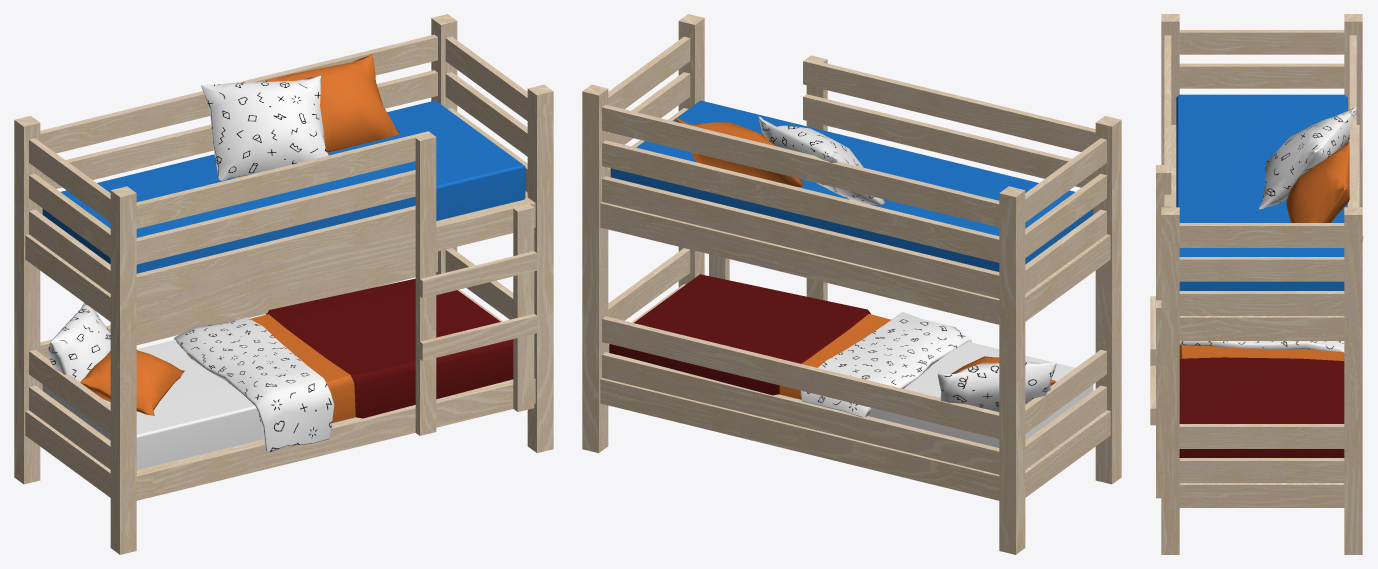
The model's file is bed_010.fbx.
The picture shows the model from 3 angles, left to right: view 1: azimuth 30°, elevation 25°; view 2: azimuth 150°, elevation 25°; view 3: azimuth 270°, elevation 25°; orthographic projection. The views are drawn at different scales.
Parts seen in each view (by area): view 1: bed_010; view 2: bed_010; view 3: bed_010.
Boxes of the visible parts, x1,y1,x2,y2 form: bed_010: [14, 14, 553, 554]; bed_010: [582, 14, 1121, 554]; bed_010: [1150, 14, 1363, 554].
Size of the model in its own units: 290 by 129 by 227.
